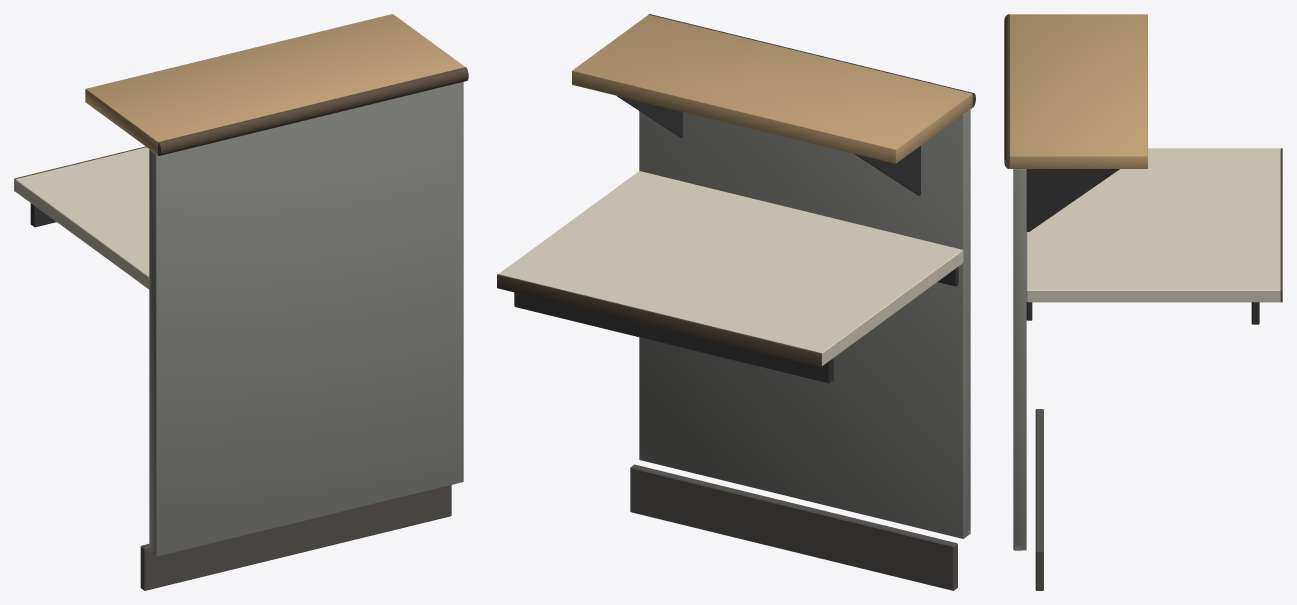
File: Kit_StationCounter_Run075.fbx
3 views of the same model, side by side, from view 1: azimuth 30°, elevation 25°; view 2: azimuth 150°, elevation 25°; view 3: azimuth 270°, elevation 25° (orthographic). The views are drawn at different scales.
Parts seen in each view (by area): view 1: Kit_StationCounter_Run075_LOD0; view 2: Kit_StationCounter_Run075_LOD0; view 3: Kit_StationCounter_Run075_LOD0.
Boxes of the visible parts, x1,y1,x2,y2 form: Kit_StationCounter_Run075_LOD0: (14, 14, 468, 590); Kit_StationCounter_Run075_LOD0: (497, 14, 975, 590); Kit_StationCounter_Run075_LOD0: (1004, 14, 1282, 590).
Size of what is drawn, in the model's own units: 0.75 by 1.07 by 0.62.
